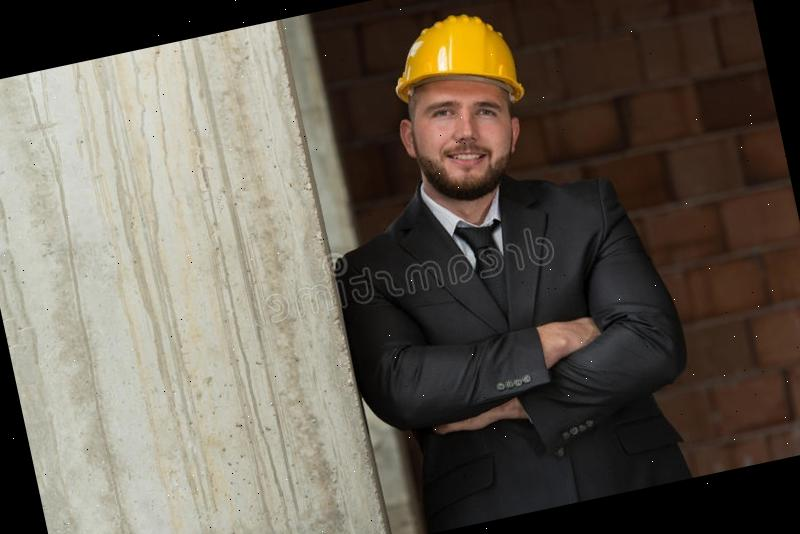helmet: (382, 1, 534, 125)
no_wear: (351, 179, 682, 534)
